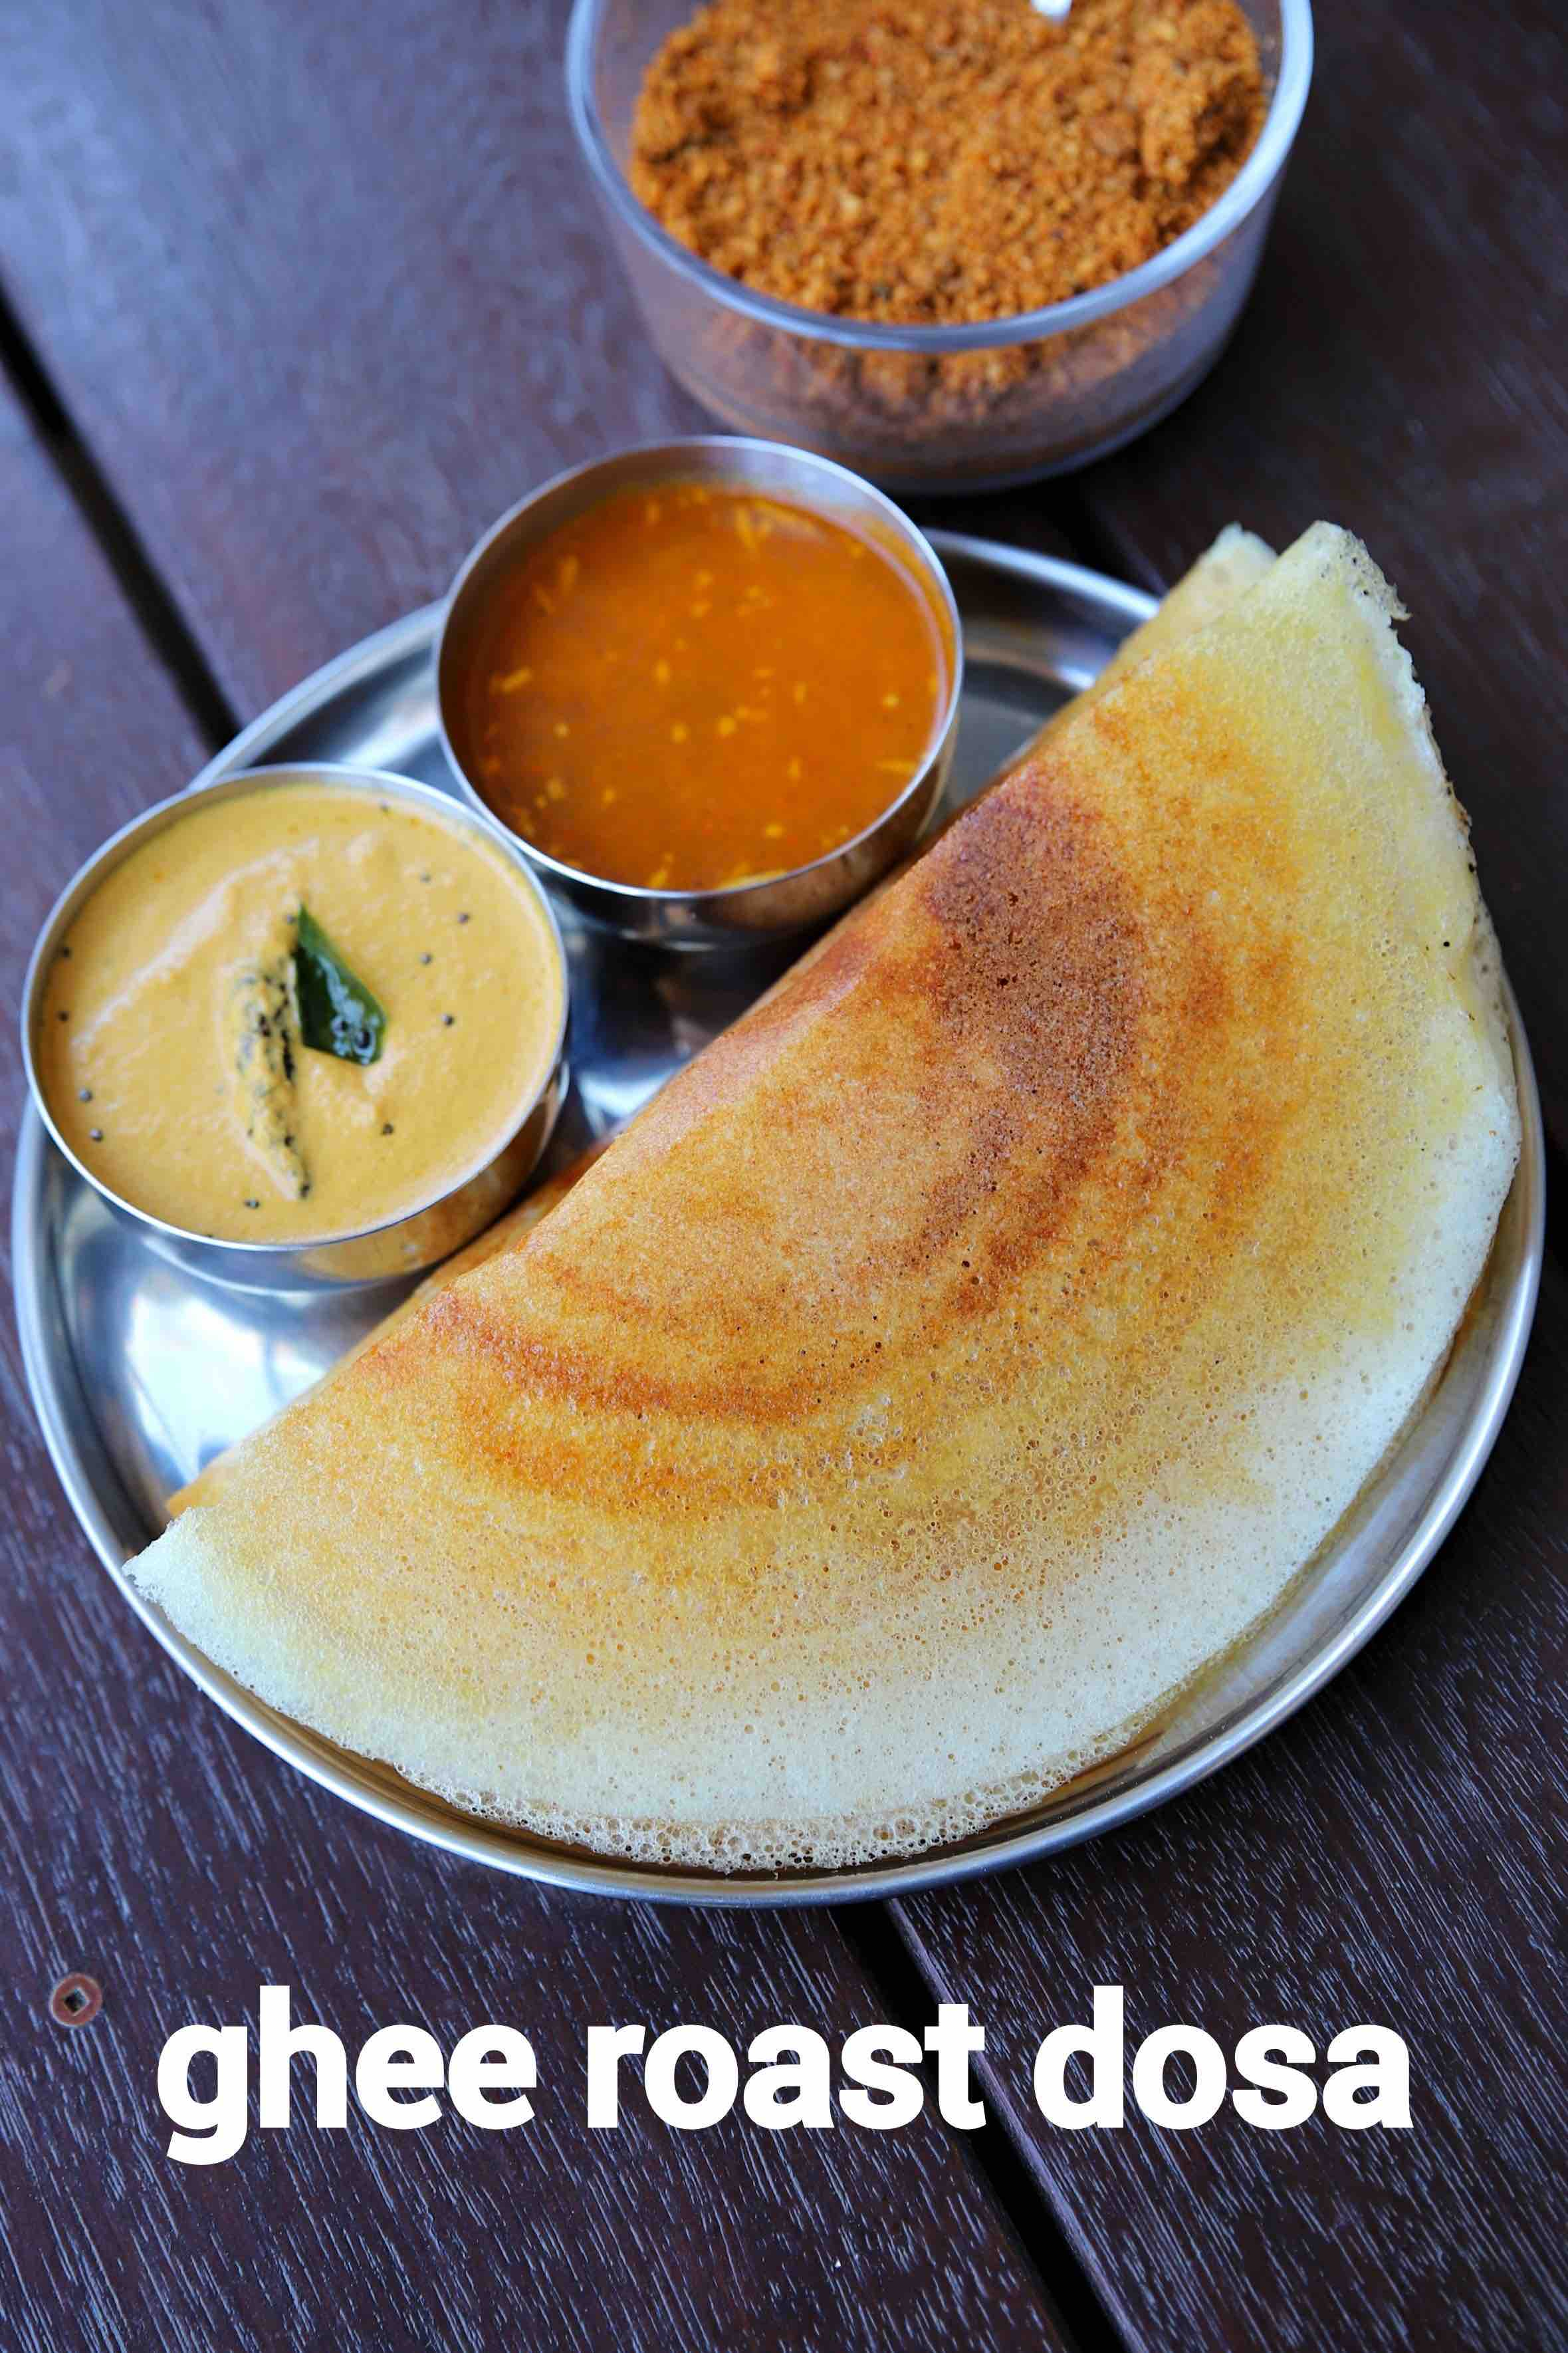dosa: (2, 522, 1568, 1868)
